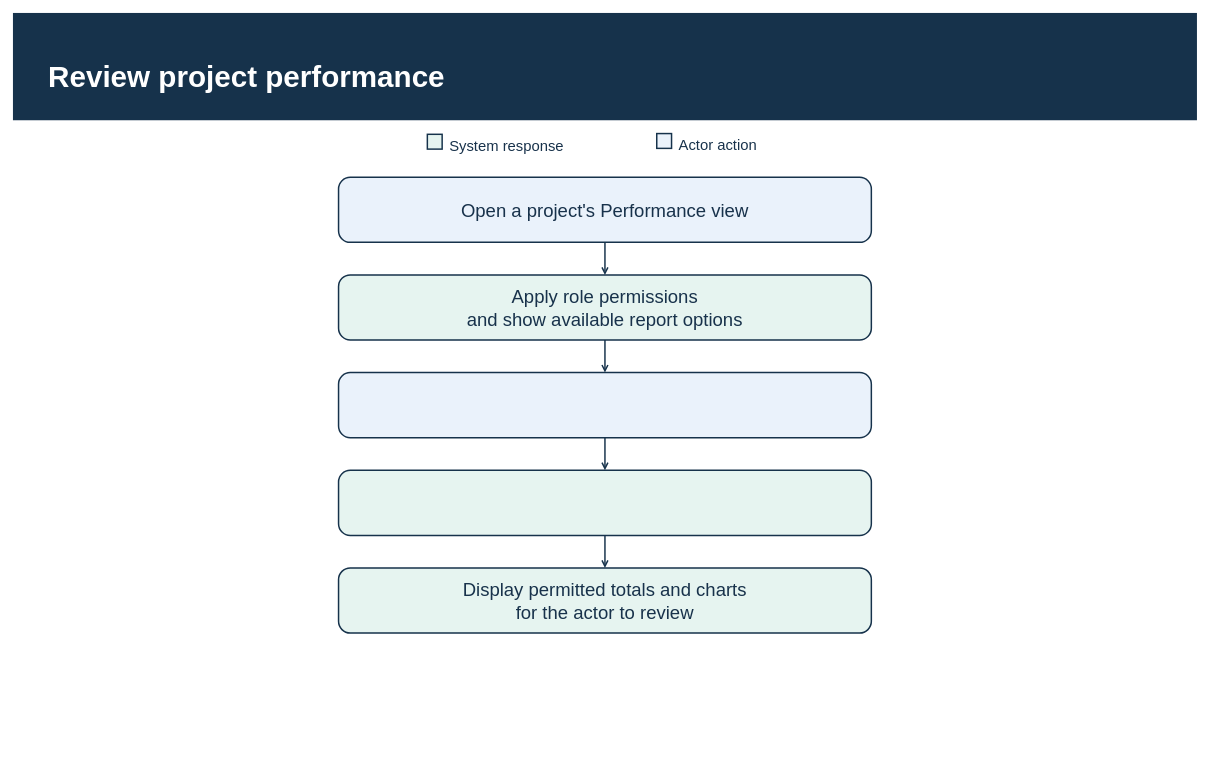
Some shapes in this 1209 by 765 pixel diagram are drawn without their labels. The box of each missing label's shape, as (x1, y1, x2, y2) in pixels:
Calculate authorized hour totals and defined metrics: (337, 469, 872, 536)
Select a permitted reporting period and view: (337, 371, 872, 438)
